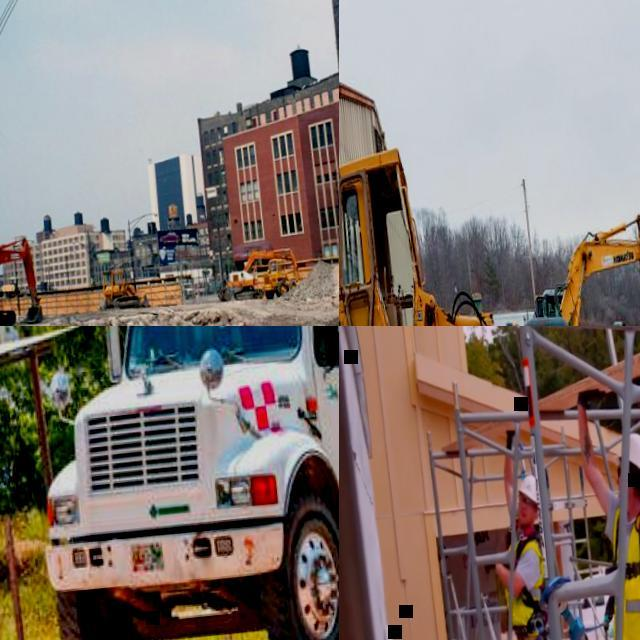helmet: (611, 428, 640, 476), (516, 473, 538, 503)
vest: (596, 501, 640, 640), (498, 524, 550, 626)
